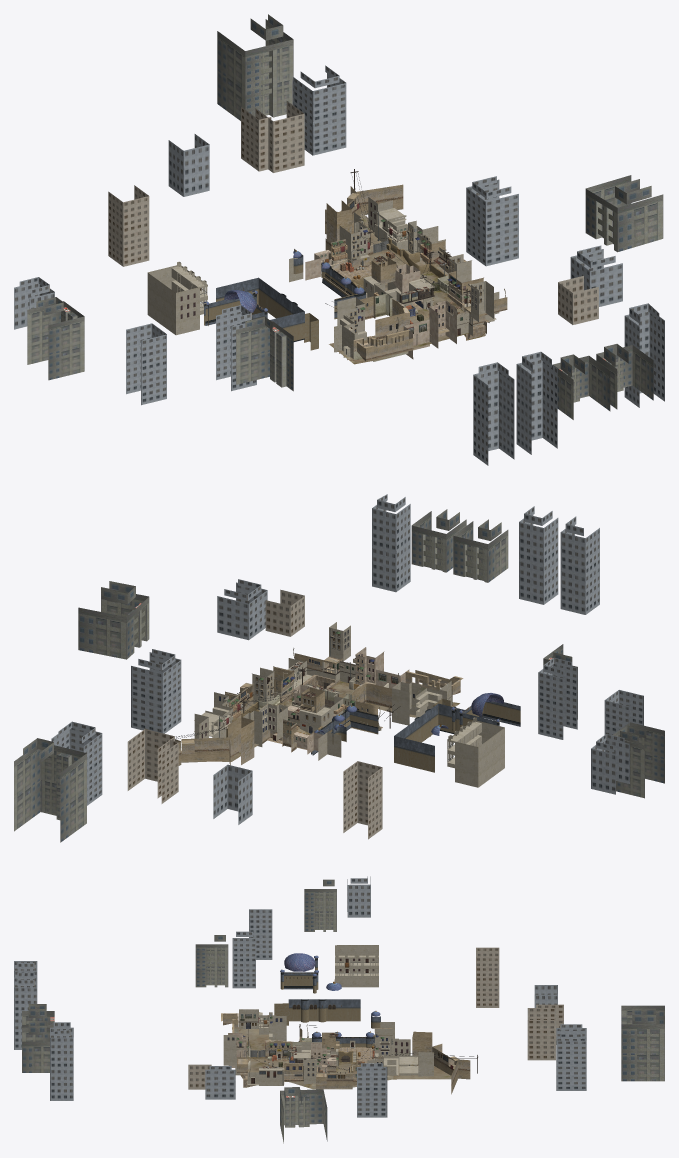
Rendered from environment.glb.
3 views of the same model, one above another, from view 1: azimuth 30°, elevation 25°; view 2: azimuth 150°, elevation 25°; view 3: azimuth 270°, elevation 25° (orthographic). The views are drawn at different scales.
Visible parts, largest first — view 1: _Combined Mesh [Part(Other)]_0; view 2: _Combined Mesh [Part(Other)]_0; view 3: _Combined Mesh [Part(Other)]_0.
Part boxes in pixels (box(x1,y1,x2,y2)): _Combined Mesh [Part(Other)]_0: box(14, 14, 664, 465); _Combined Mesh [Part(Other)]_0: box(14, 494, 664, 842); _Combined Mesh [Part(Other)]_0: box(14, 876, 664, 1143).
Size of the model in its own units: 2.22 by 0.4168 by 2.66.
9 materials, 9 textured.
